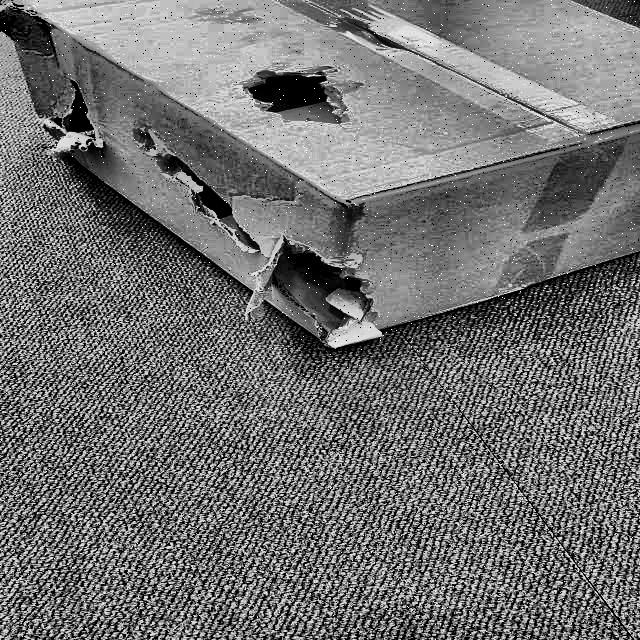box: (1, 0, 639, 381)
hole: (143, 140, 266, 260), (263, 233, 380, 349), (242, 64, 367, 133), (47, 82, 103, 156)
